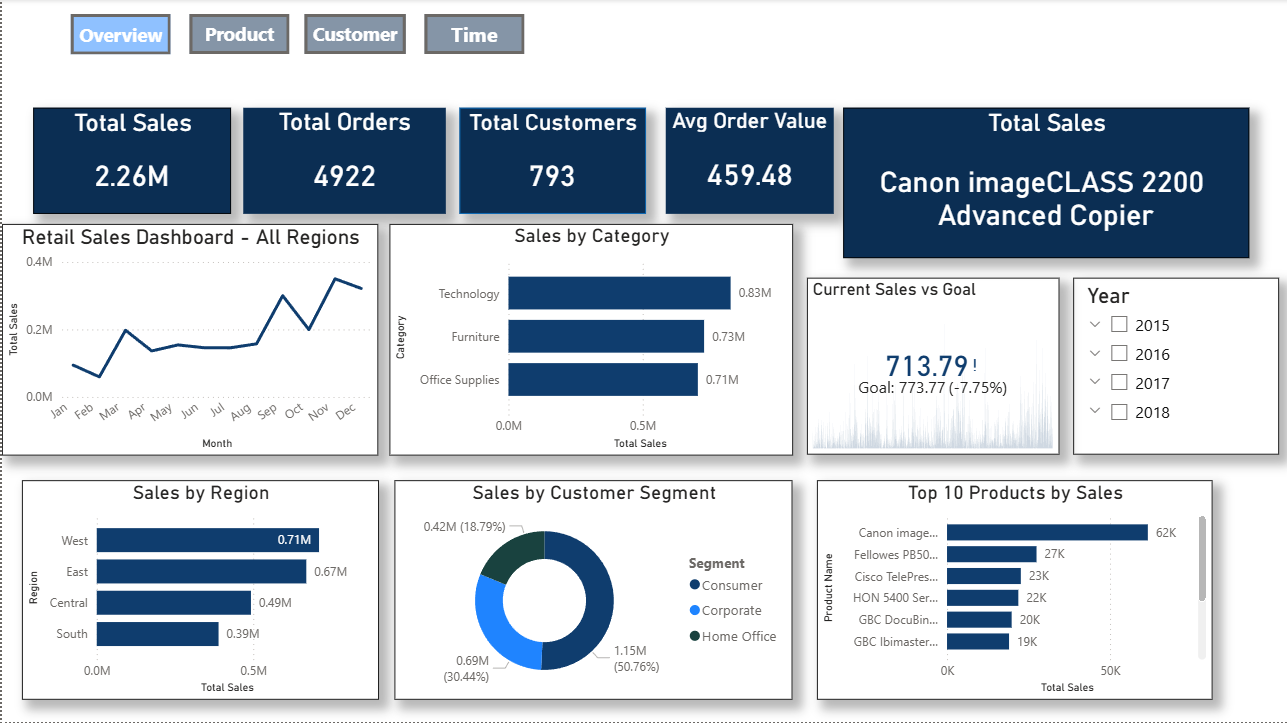

Layout of this report page (visuals, bound fields, positions):
{"tool":"powerbi","page":{"name":"Overview","canvas":[1280,720],"ordinal":0},"visuals":[{"type":"card","title":"Total Sales","fields":{"Values":["FactSales.Total Sales"]},"box":[30.9,108.1,196.8,105.5],"z":0},{"type":"card","title":"Total Orders","fields":{"Values":["FactSales.Total Orders"]},"box":[240.6,108.1,202,105.5],"z":1},{"type":"card","title":"Total Customers","fields":{"Values":["FactSales.Total Customers"]},"box":[455.4,108.1,185.2,105.5],"z":2},{"type":"card","title":"Avg Order Value","fields":{"Values":["FactSales.Avg Order Value"]},"box":[659.9,108.1,167.2,105.5],"z":3},{"type":"lineChart","fields":{"Category":["Date Table.Month"],"Y":["FactSales.Total Sales"]},"box":[0,223.8,374.4,230.3],"z":4},{"type":"barChart","title":"Sales by Category","fields":{"Category":["FactSales.Category"],"Y":["FactSales.Total Sales"]},"box":[385.9,223.8,401.4,230.3],"z":5},{"type":"barChart","title":"Sales by Region","fields":{"Category":["FactSales.Region"],"Y":["FactSales.Total Sales"]},"box":[19.3,478.6,355.1,218.7],"z":6},{"type":"donutChart","title":"Sales by Customer  Segment","fields":{"Category":["FactSales.Segment"],"Y":["FactSales.Total Sales"]},"box":[391.1,478.6,396.2,218.7],"z":7},{"type":"barChart","title":"Top 10 Products by Sales","fields":{"Category":["FactSales.Product Name"],"Y":["FactSales.Total Sales"]},"box":[810.5,478.6,393.6,218.7],"z":8},{"type":"slicer","fields":{"Values":["Date Table.Year","FactSales.Region","FactSales.Category","FactSales.Segment"]},"box":[1066.5,277.9,204.5,176.2],"z":9},{"type":"actionButton","box":[67.8,14.4,99.6,40.4],"z":10},{"type":"actionButton","title":"Product","box":[186.6,14.9,99.5,39.8],"z":11},{"type":"actionButton","box":[301,14.9,100.8,39.8],"z":12},{"type":"actionButton","box":[420.5,14.9,99.5,39.8],"z":13},{"type":"kpi","title":"Current Sales vs Goal","fields":{"Goal":["FactSales.Sales LY"],"Indicator":["FactSales.Total Sales"],"TrendLine":["Date Table.Date"]},"box":[801.4,277.9,250.9,176.2],"z":14},{"type":"card","title":"Total Sales","fields":{"Values":["FactSales.Top Product Name"]},"box":[837.5,108.1,403.9,149.2],"z":15}]}

Visuals, with their boxes in screenshot pixels (x1, y1, x2, y2), scaled from the page's 1280x720 canvas onto the 1287x723 screenshot:
"Total Sales" card: 31/109/229/214
"Total Orders" card: 242/109/445/214
"Total Customers" card: 458/109/644/214
"Avg Order Value" card: 664/109/832/214
lineChart - Date Table.Month x FactSales.Total Sales: 0/225/376/456
"Sales by Category" barChart: 388/225/792/456
"Sales by Region" barChart: 19/481/376/700
"Sales by Customer  Segment" donutChart: 393/481/792/700
"Top 10 Products by Sales" barChart: 815/481/1211/700
slicer - Date Table.Year x FactSales.Region: 1072/279/1278/456
actionButton: 68/14/168/55
"Product" actionButton: 188/15/288/55
actionButton: 303/15/404/55
actionButton: 423/15/523/55
"Current Sales vs Goal" kpi: 806/279/1058/456
"Total Sales" card: 842/109/1248/258
